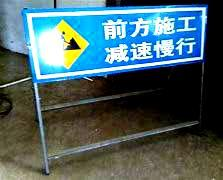sign: (30, 9, 205, 78)
